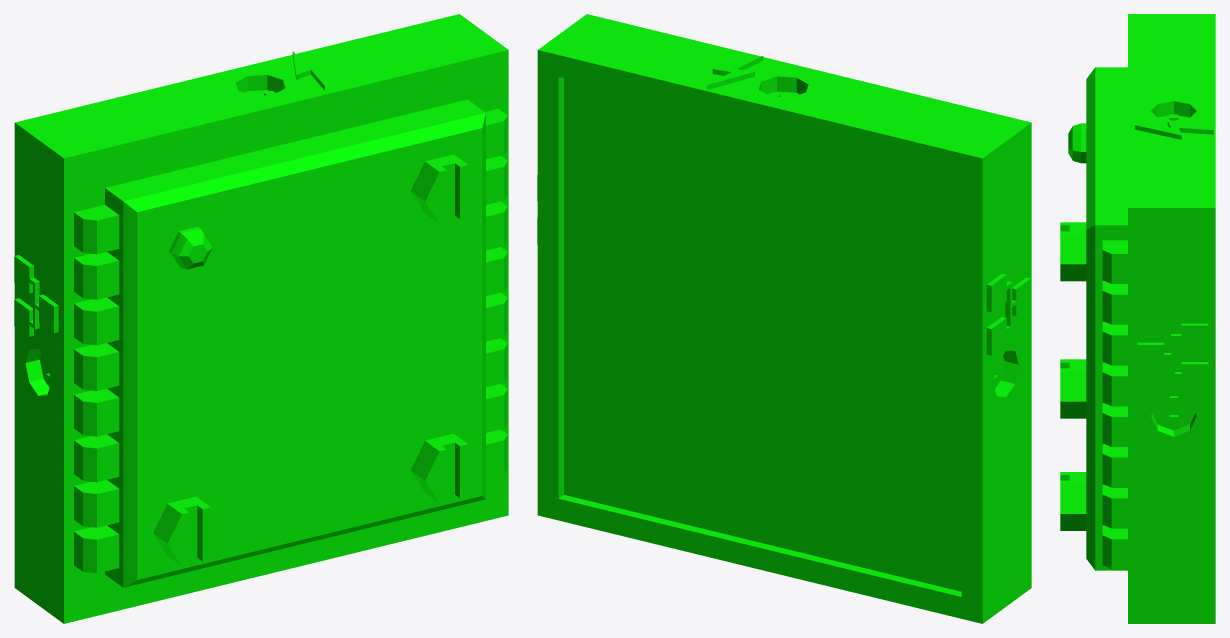
Rendered from StructureLogicBatchReader_Blueprint.fbx.
3 views of the same model, side by side, from view 1: azimuth 30°, elevation 25°; view 2: azimuth 150°, elevation 25°; view 3: azimuth 270°, elevation 25° (orthographic). The views are drawn at different scales.
Visible parts, largest first — view 1: StructureLogicBatchReader_0; view 2: StructureLogicBatchReader_0; view 3: StructureLogicBatchReader_0.
Boxes of the visible parts, <box> form: StructureLogicBatchReader_0: <box>14,14,508,623</box>; StructureLogicBatchReader_0: <box>537,14,1031,623</box>; StructureLogicBatchReader_0: <box>1060,14,1215,623</box>.
Size of the model in its own units: 51.07 by 50.54 by 16.95.
